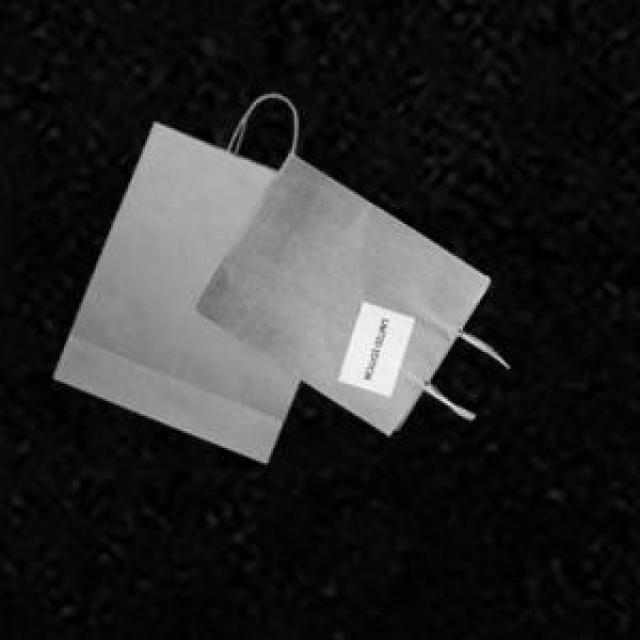paper: (192, 149, 499, 431), (49, 117, 297, 459)
